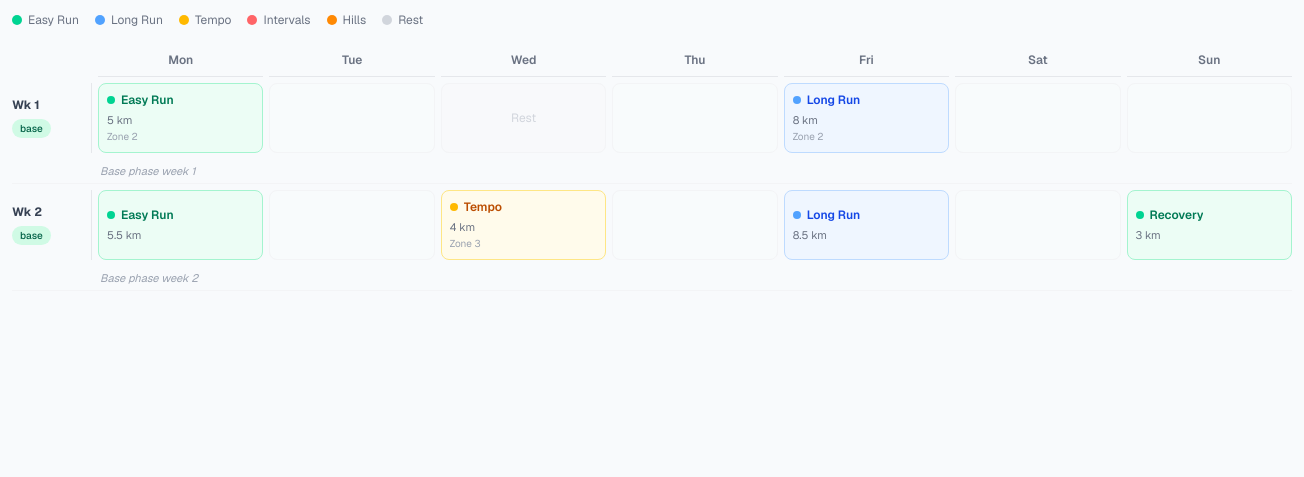
Test case: PlanCalendar › closes workout detail on close button
The width and height of the screenshot is (1304, 477).
Click the button "Easy Run 5 km Zone 2". click: click(181, 118)
box: [98,83,263,152]
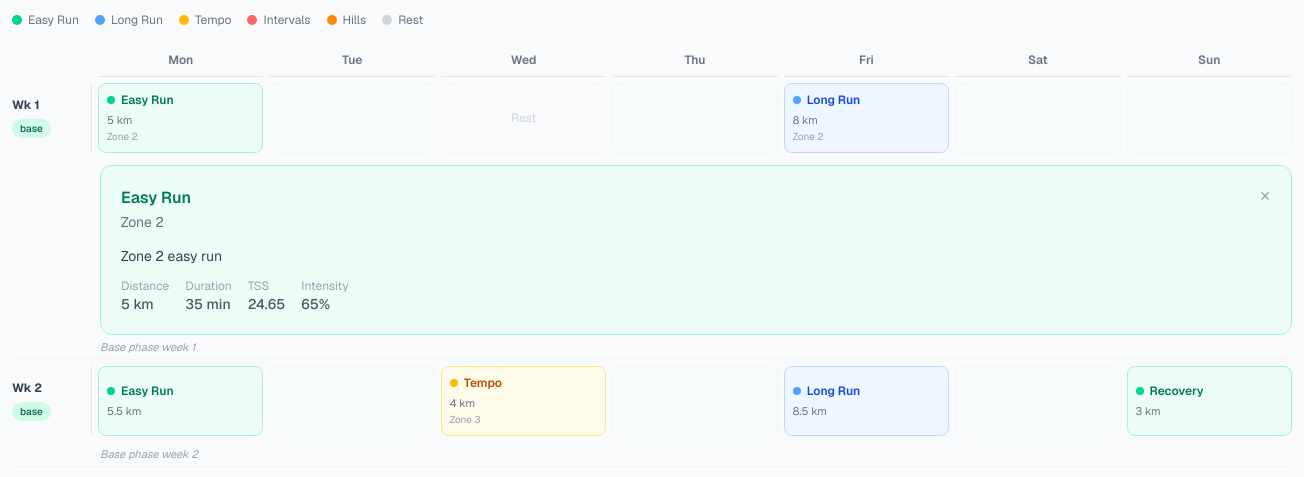
Result: the text "Zone 2 easy run" is shown at [121,246,222,264]
Click the button named "Close details". click: click(1265, 196)
box: [1259,186,1271,206]
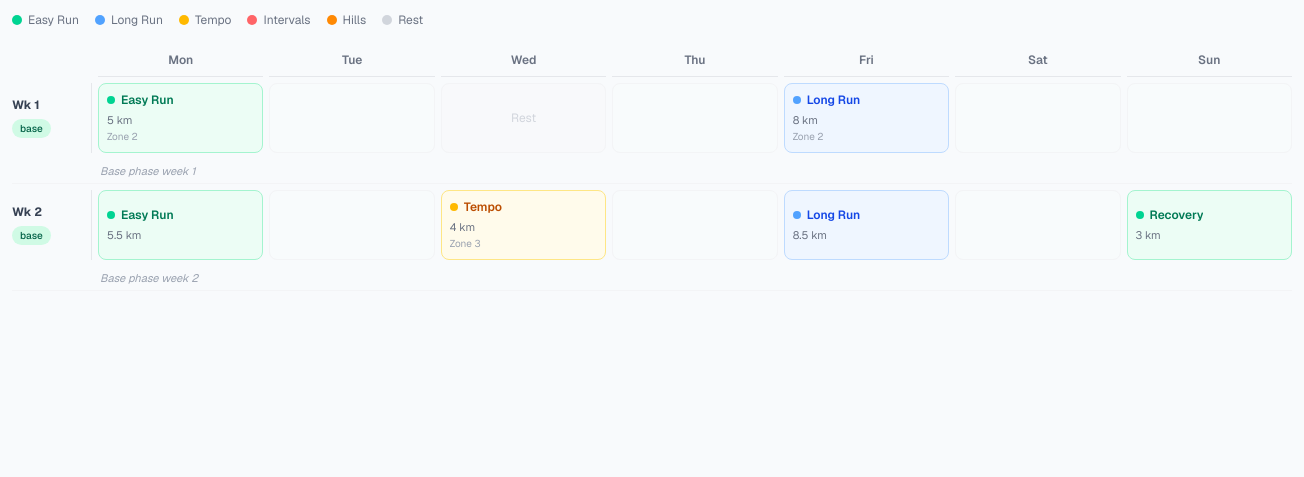
Result: the text "Zone 2 easy run" is gone
